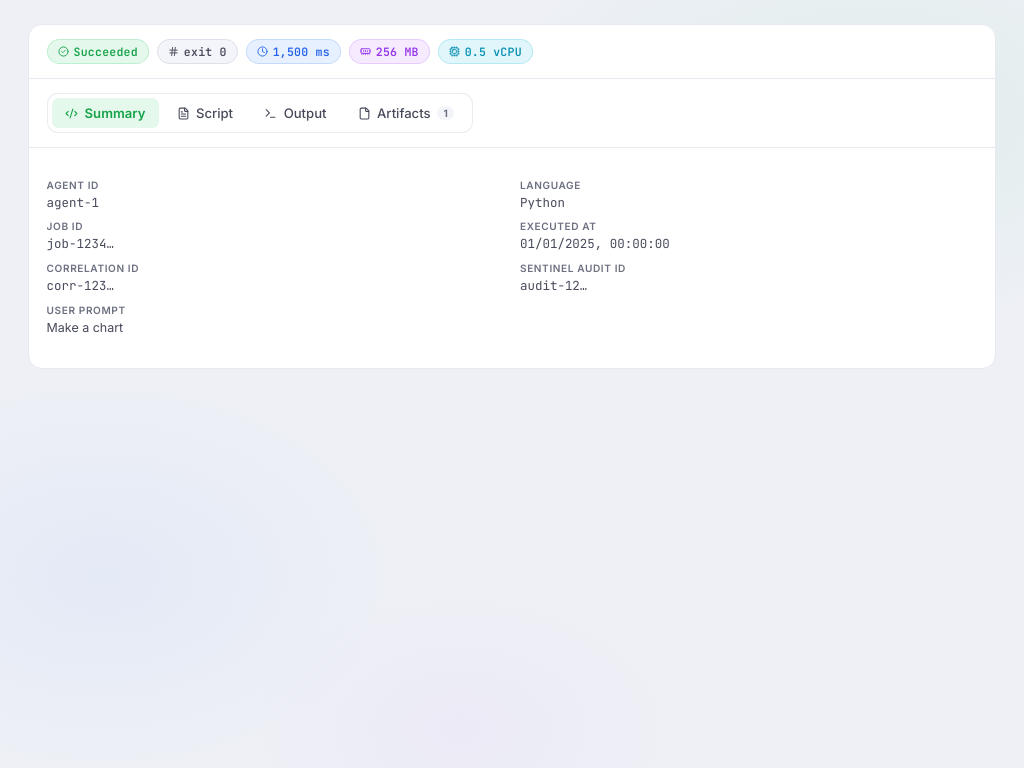
Test case: SandboxRunDetail tabs › shows terminal output on the Output tab
The image size is (1024, 768).
Click the tab "Output". click: (295,113)
box: [251,98,340,128]
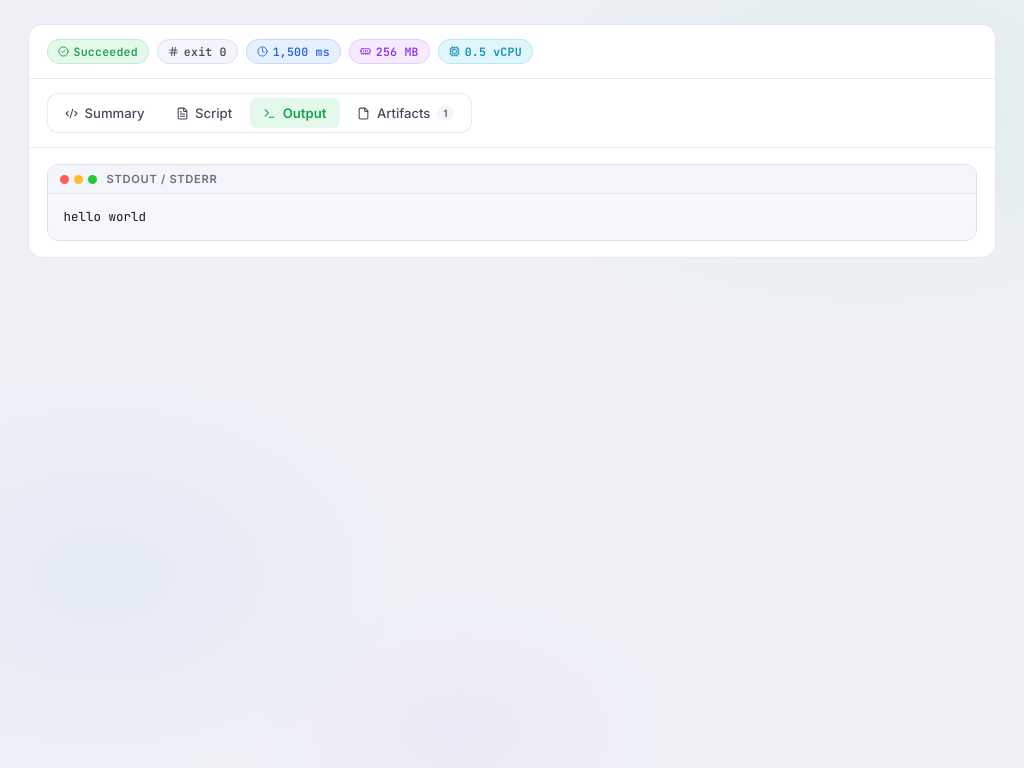
Expected: the text "hello world" is shown, [64,208,146,225]
